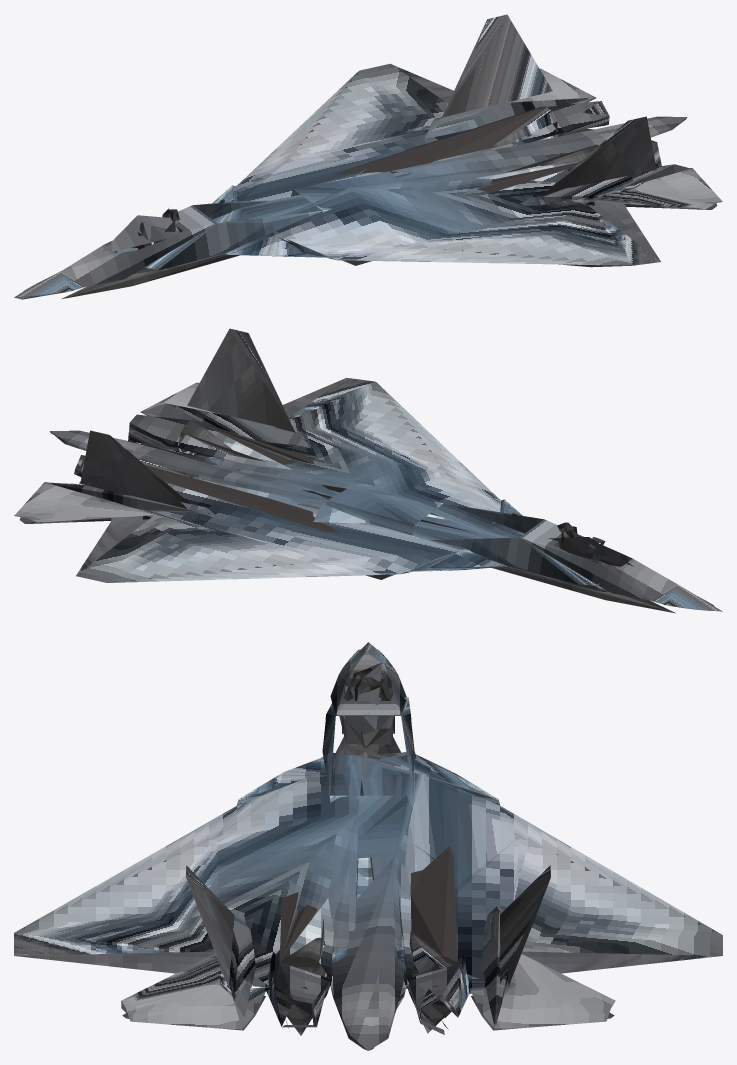
3 views of the same model, one above another, from view 1: azimuth 30°, elevation 25°; view 2: azimuth 150°, elevation 25°; view 3: azimuth 270°, elevation 25° (orthographic). The views are drawn at different scales.
Parts seen in each view (by area): view 1: Object_5, Object_4, Object_7, Object_9; view 2: Object_5, Object_4, Object_7, Object_9; view 3: Object_5, Object_4, Object_7, Object_9.
Boxes of the visible parts, left/top/right/bottom form: Object_5: left=14, top=14, right=722, bottom=299; Object_4: left=116, top=106, right=598, bottom=254; Object_7: left=61, top=80, right=717, bottom=299; Object_9: left=114, top=131, right=577, bottom=274; Object_5: left=14, top=328, right=722, bottom=611; Object_4: left=79, top=420, right=622, bottom=567; Object_7: left=19, top=394, right=675, bottom=613; Object_9: left=159, top=438, right=622, bottom=583; Object_5: left=14, top=642, right=722, bottom=1050; Object_4: left=279, top=685, right=457, bottom=1029; Object_7: left=122, top=736, right=614, bottom=1050; Object_9: left=236, top=668, right=451, bottom=1018.
Bounding box in the file's own units: 2.71 × 0.441 × 1.89.
Materials: 1 (1 with a texture image).
